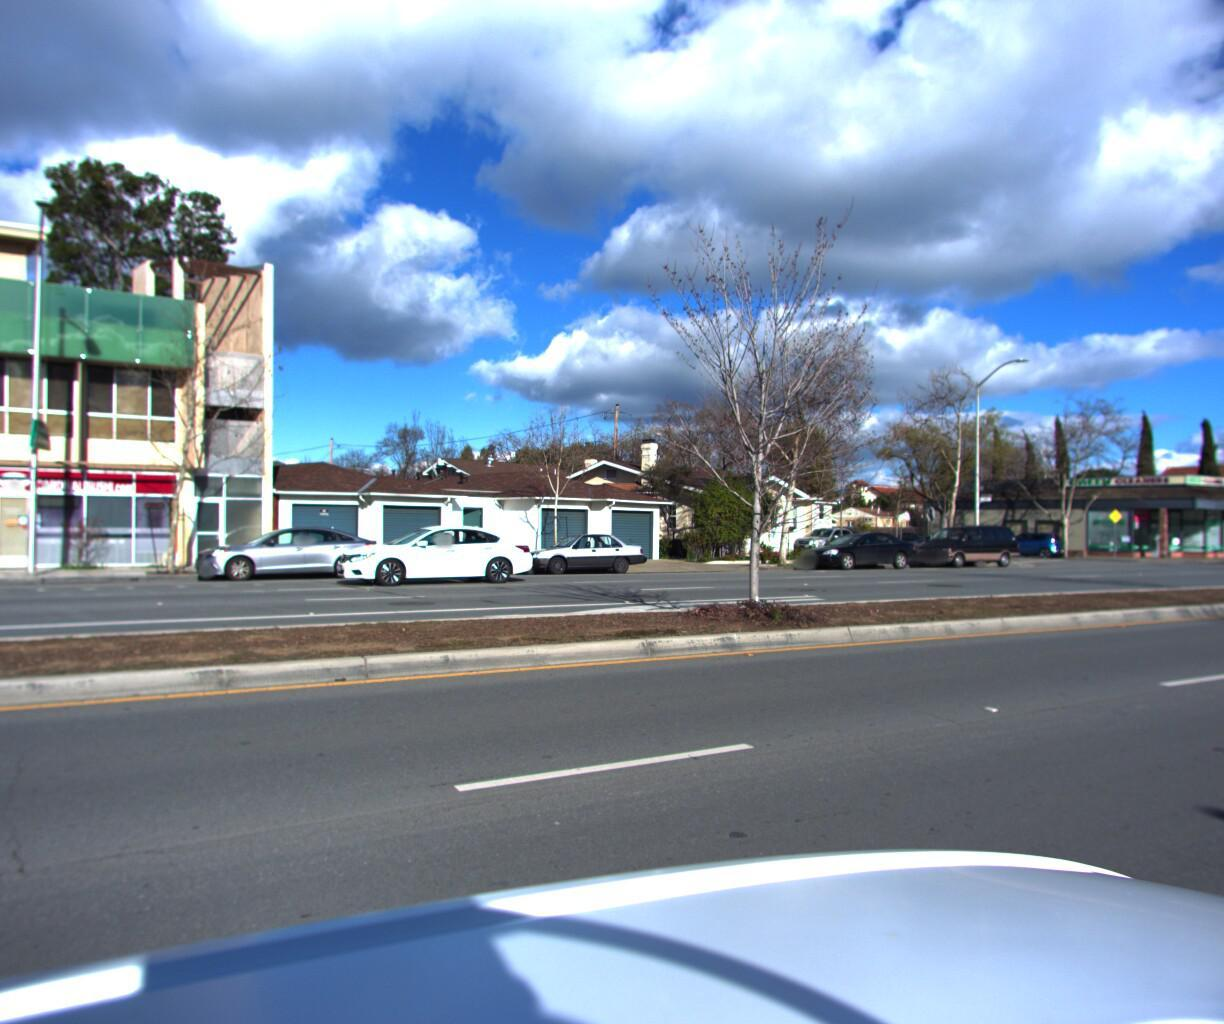car: (326, 526, 540, 590), (189, 527, 387, 586), (508, 533, 648, 580), (791, 530, 921, 571), (908, 522, 1019, 568), (784, 524, 861, 557), (986, 529, 1065, 558)
